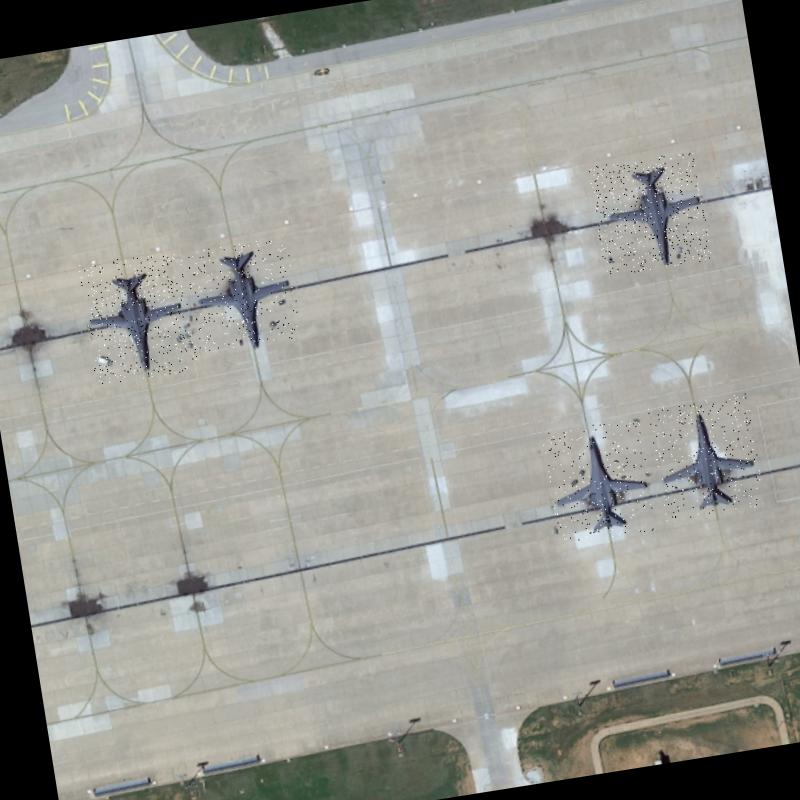A10: (77, 248, 199, 386), (588, 150, 712, 276), (647, 393, 765, 521), (540, 417, 656, 546), (184, 236, 302, 353)
